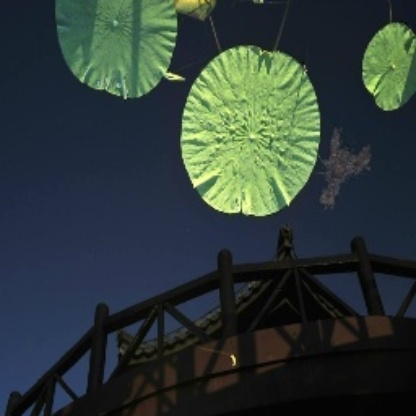leaf: (181, 45, 323, 217)
